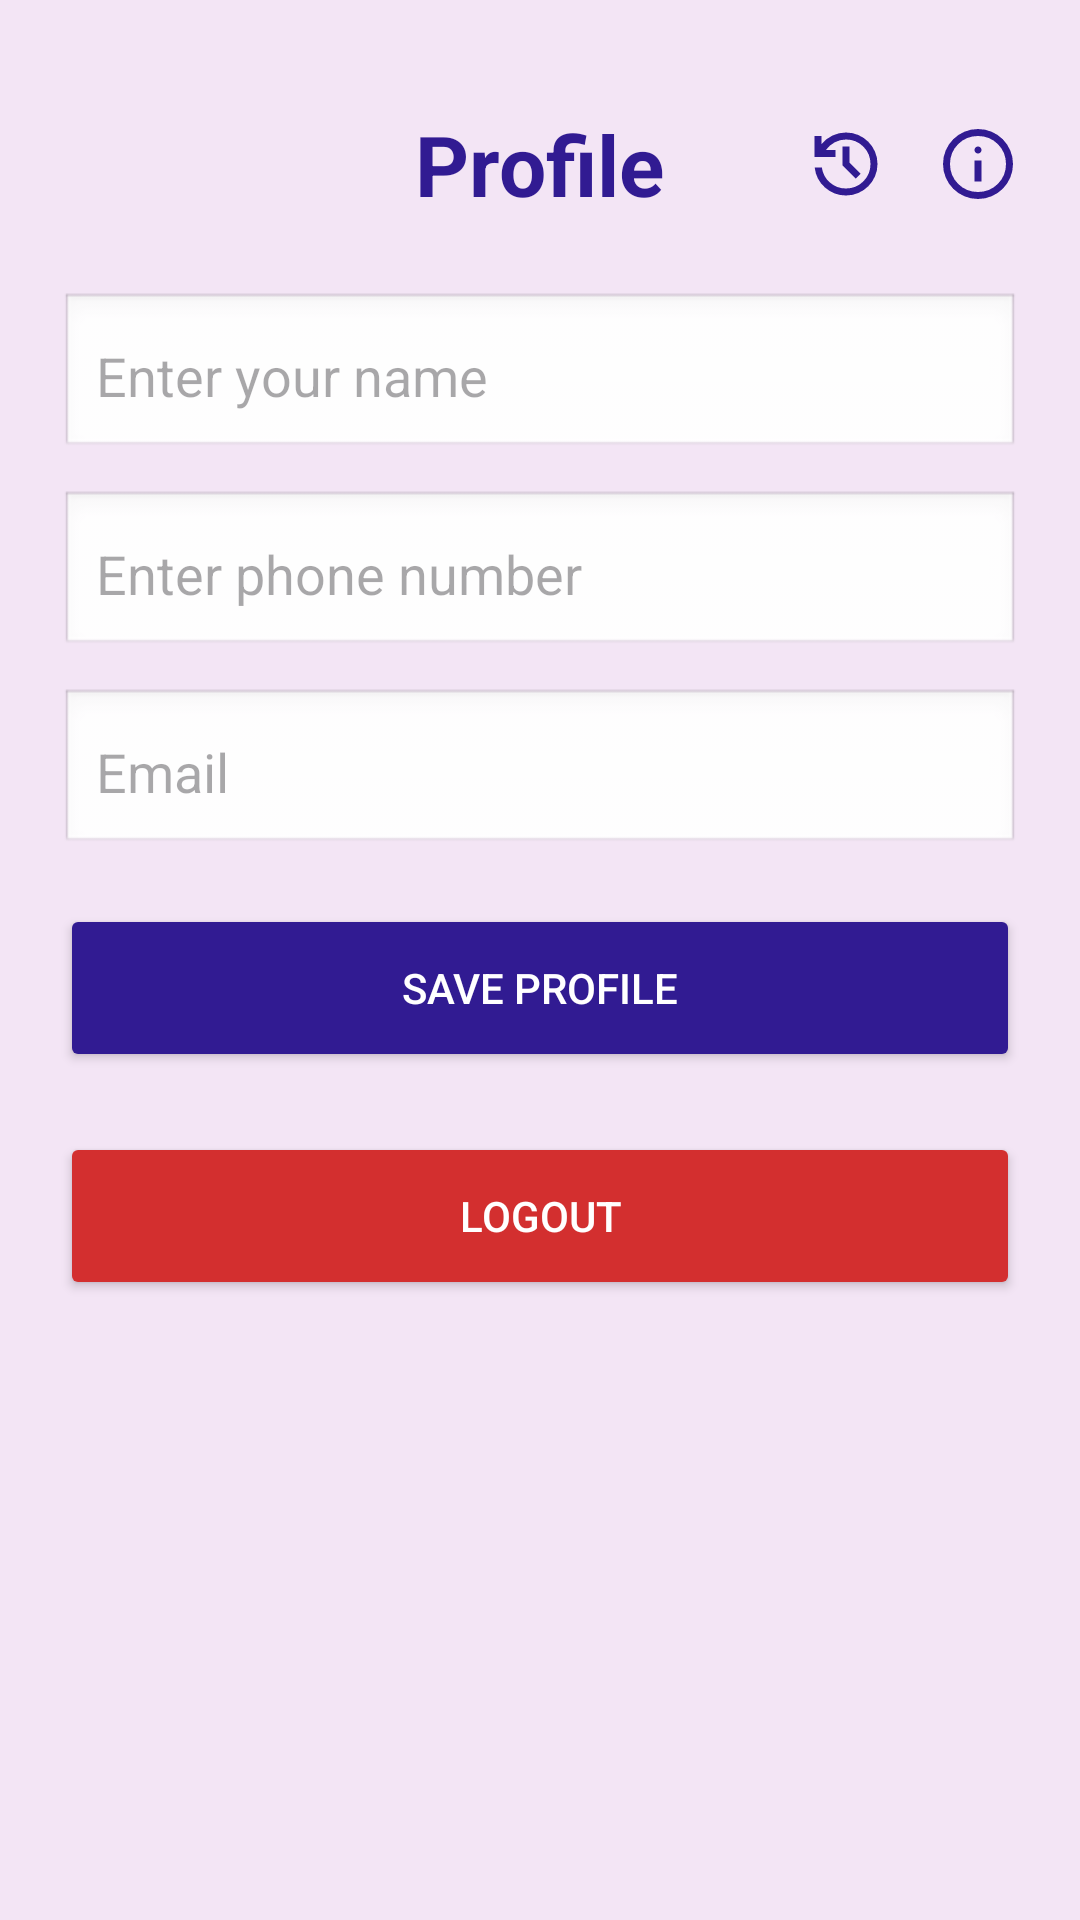

Named icons in this screenshot (1080 x 1920) and their centers, [x,y]:
history: [846,164]
info: [978,164]
